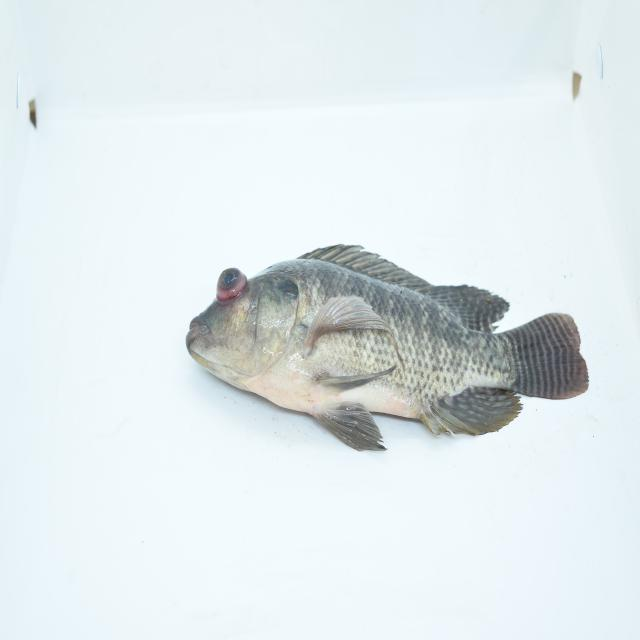streptococcus Disease: (184, 238, 590, 453)
